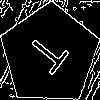T: (24, 29, 77, 83)
